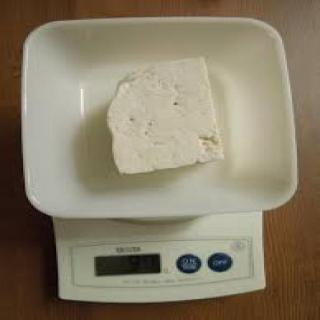Tahu: (92, 54, 251, 185)
